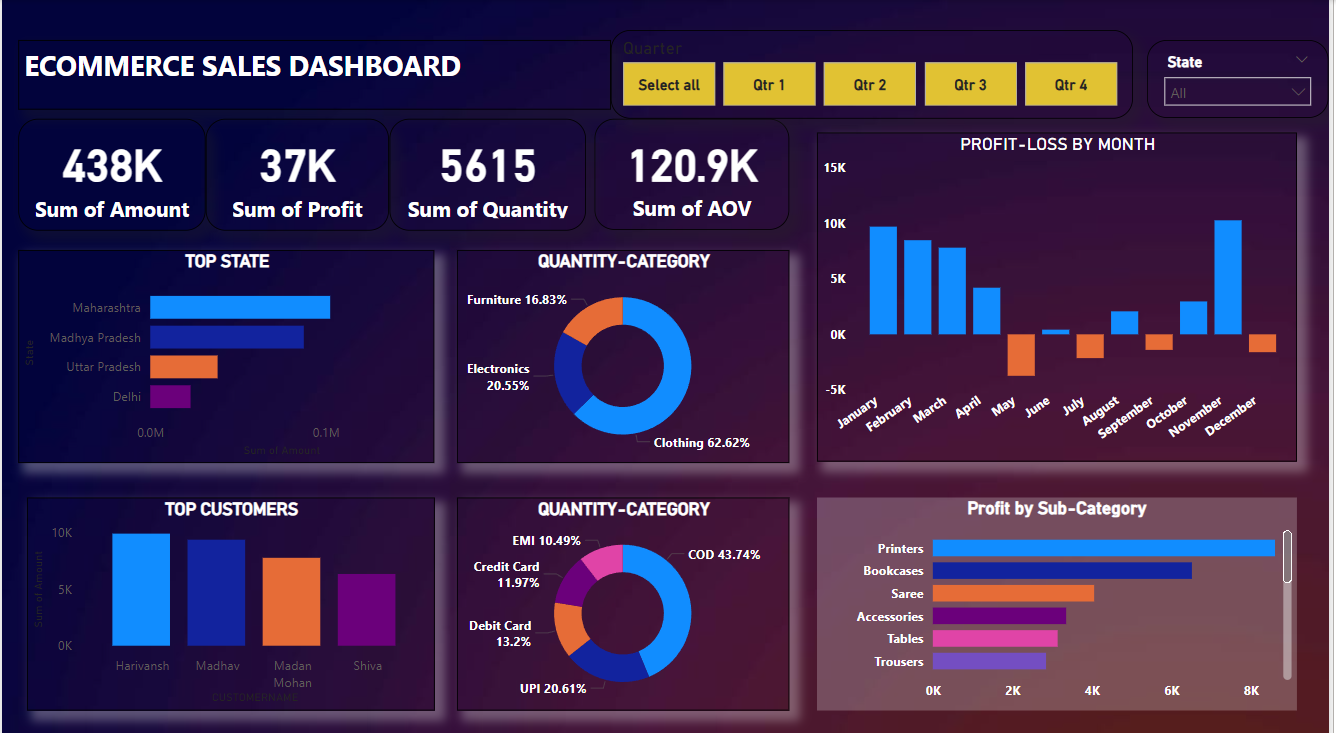

The page's visual inventory and layout, read from the dashboard file:
{"tool":"powerbi","page":{"name":"Page 1","canvas":[1280,720],"ordinal":0},"visuals":[{"type":"textbox","box":[15.7,38.6,571.9,67.6],"z":0},{"type":"card","fields":{"Values":["Final.Amount"]},"box":[15.7,114,181,108.3],"z":1000},{"type":"card","fields":{"Values":["Details.AOV"]},"box":[571.9,114.6,188.2,107.4],"z":2000},{"type":"card","fields":{"Values":["Final.Profit"]},"box":[196.7,114,176.7,108.3],"z":3000},{"type":"card","fields":{"Values":["Final.Quantity"]},"box":[373.5,114,189.6,108.3],"z":4000},{"type":"columnChart","title":"PROFIT-LOSS BY MONTH","fields":{"Category":["Final.ORDERDATE.Variation.Date Hierarchy.Month"],"Y":["Final.Profit"]},"box":[786.8,128.3,463.3,317.9],"z":5000},{"type":"barChart","title":" Profit by Sub-Category","fields":{"Y":["Final.Profit"],"Category":["Final.Sub-Category"],"Series":["Final.Sub-Category"]},"box":[786.8,480.4,463.3,205.3],"z":6000},{"type":"donutChart","title":" QUANTITY-CATEGORY","fields":{"Category":["Final.Category"],"Y":["Final.Quantity"]},"box":[439,240.9,320.7,205.3],"z":7000},{"type":"donutChart","title":" QUANTITY-CATEGORY","fields":{"Y":["Final.Quantity"],"Category":["Final.PaymentMode"]},"box":[439,480.4,320.7,205.3],"z":8000},{"type":"barChart","title":" TOP STATE","fields":{"Category":["Final.State"],"Y":["Final.Amount"],"Series":["Final.State"]},"box":[15.7,240.9,402,205.3],"z":9000},{"type":"columnChart","title":" TOP CUSTOMERS","fields":{"Category":["Final.CUSTOMERNAME"],"Y":["Final.Amount"],"Series":["Final.CUSTOMERNAME"]},"box":[24.2,480.4,393.4,205.3],"z":10000},{"type":"slicer","fields":{"Values":["Final.State"]},"box":[1104.7,38.5,175.3,75.5],"z":11000},{"type":"advancedSlicerVisual","fields":{"Values":["Final.ORDERDATE.Variation.Date Hierarchy.Quarter"]},"box":[587.5,29,504.3,85.7],"z":12000}]}

Visuals, with their boxes in screenshot pixels (x1, y1, x2, y2), scaled from the page's 1280x720 canvas onto the 1336x733 screenshot:
textbox: 16:39:613:108
card - Final.Amount: 16:116:205:226
card - Details.AOV: 597:117:793:226
card - Final.Profit: 205:116:390:226
card - Final.Quantity: 390:116:588:226
"PROFIT-LOSS BY MONTH" columnChart: 821:131:1305:454
" Profit by Sub-Category" barChart: 821:489:1305:698
" QUANTITY-CATEGORY" donutChart: 458:245:793:454
" QUANTITY-CATEGORY" donutChart: 458:489:793:698
" TOP STATE" barChart: 16:245:436:454
" TOP CUSTOMERS" columnChart: 25:489:436:698
slicer - Final.State: 1153:39:1335:116
advancedSlicerVisual - Final.ORDERDATE.Variation.Date Hierarchy.Quarter: 613:30:1140:117
